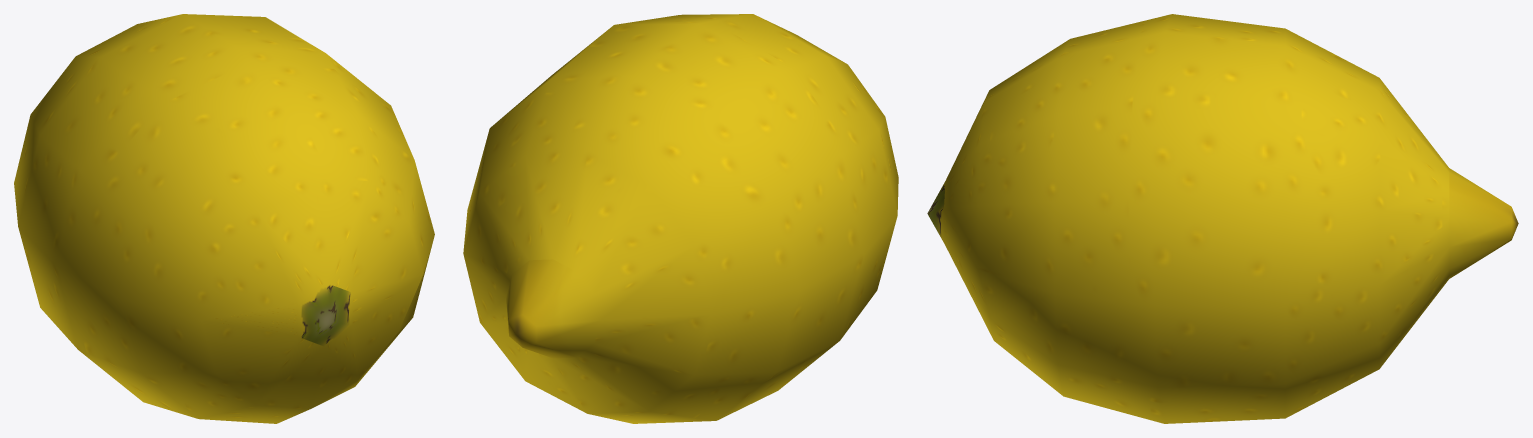
File: lemon.fbx
3 renders of one model, left to right at view 1: azimuth 30°, elevation 25°; view 2: azimuth 150°, elevation 25°; view 3: azimuth 270°, elevation 25°, orthographic. The views are drawn at different scales.
Parts seen in each view (by area): view 1: lemon; view 2: lemon; view 3: lemon.
Boxes of the visible parts, left/top/right/bottom form: lemon: left=14, top=14, right=434, bottom=423; lemon: left=463, top=14, right=898, bottom=423; lemon: left=927, top=14, right=1518, bottom=423.
Bounding box in the file's own units: 21.69 × 21.74 × 31.24.
